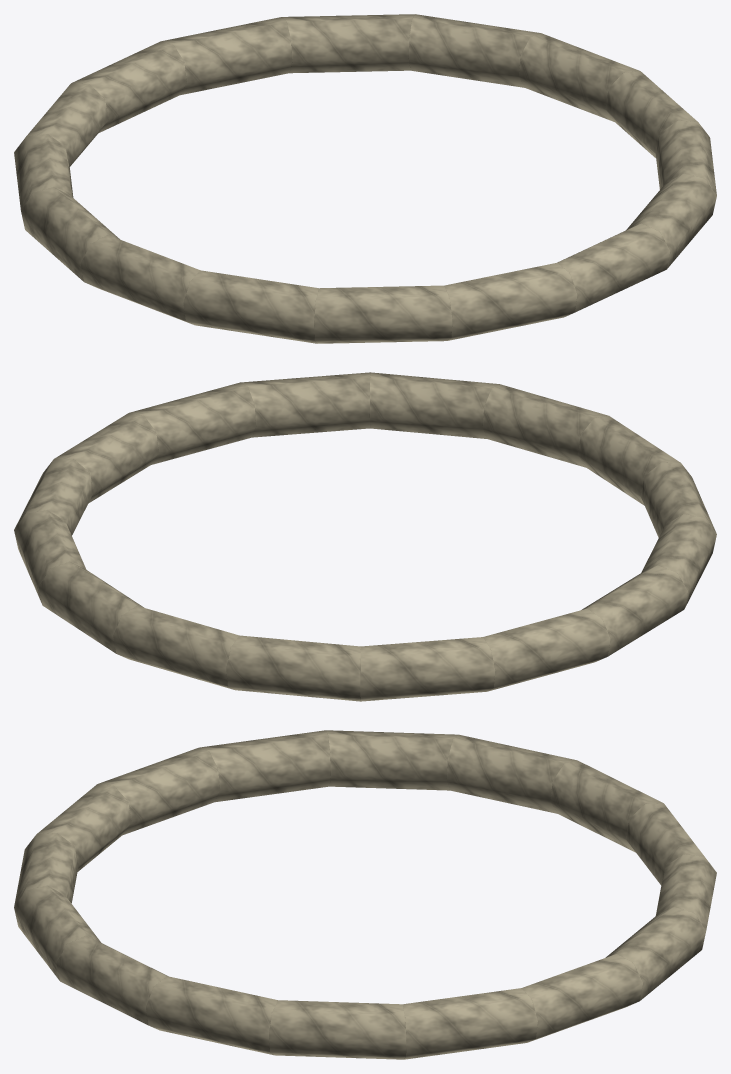
Rendered from roperound.glb.
3 renders of one model, top to bottom at view 1: azimuth 30°, elevation 25°; view 2: azimuth 150°, elevation 25°; view 3: azimuth 270°, elevation 25°, orthographic.
Parts seen in each view (by area): view 1: roperound; view 2: roperound; view 3: roperound.
Boxes of the visible parts, left/top/right/bottom form: roperound: left=14, top=14, right=716, bottom=343; roperound: left=14, top=372, right=716, bottom=701; roperound: left=14, top=730, right=716, bottom=1059.
Bounding box in the file's own units: 2.16 × 0.1718 × 2.16.
Materials: 1 (1 with a texture image).
